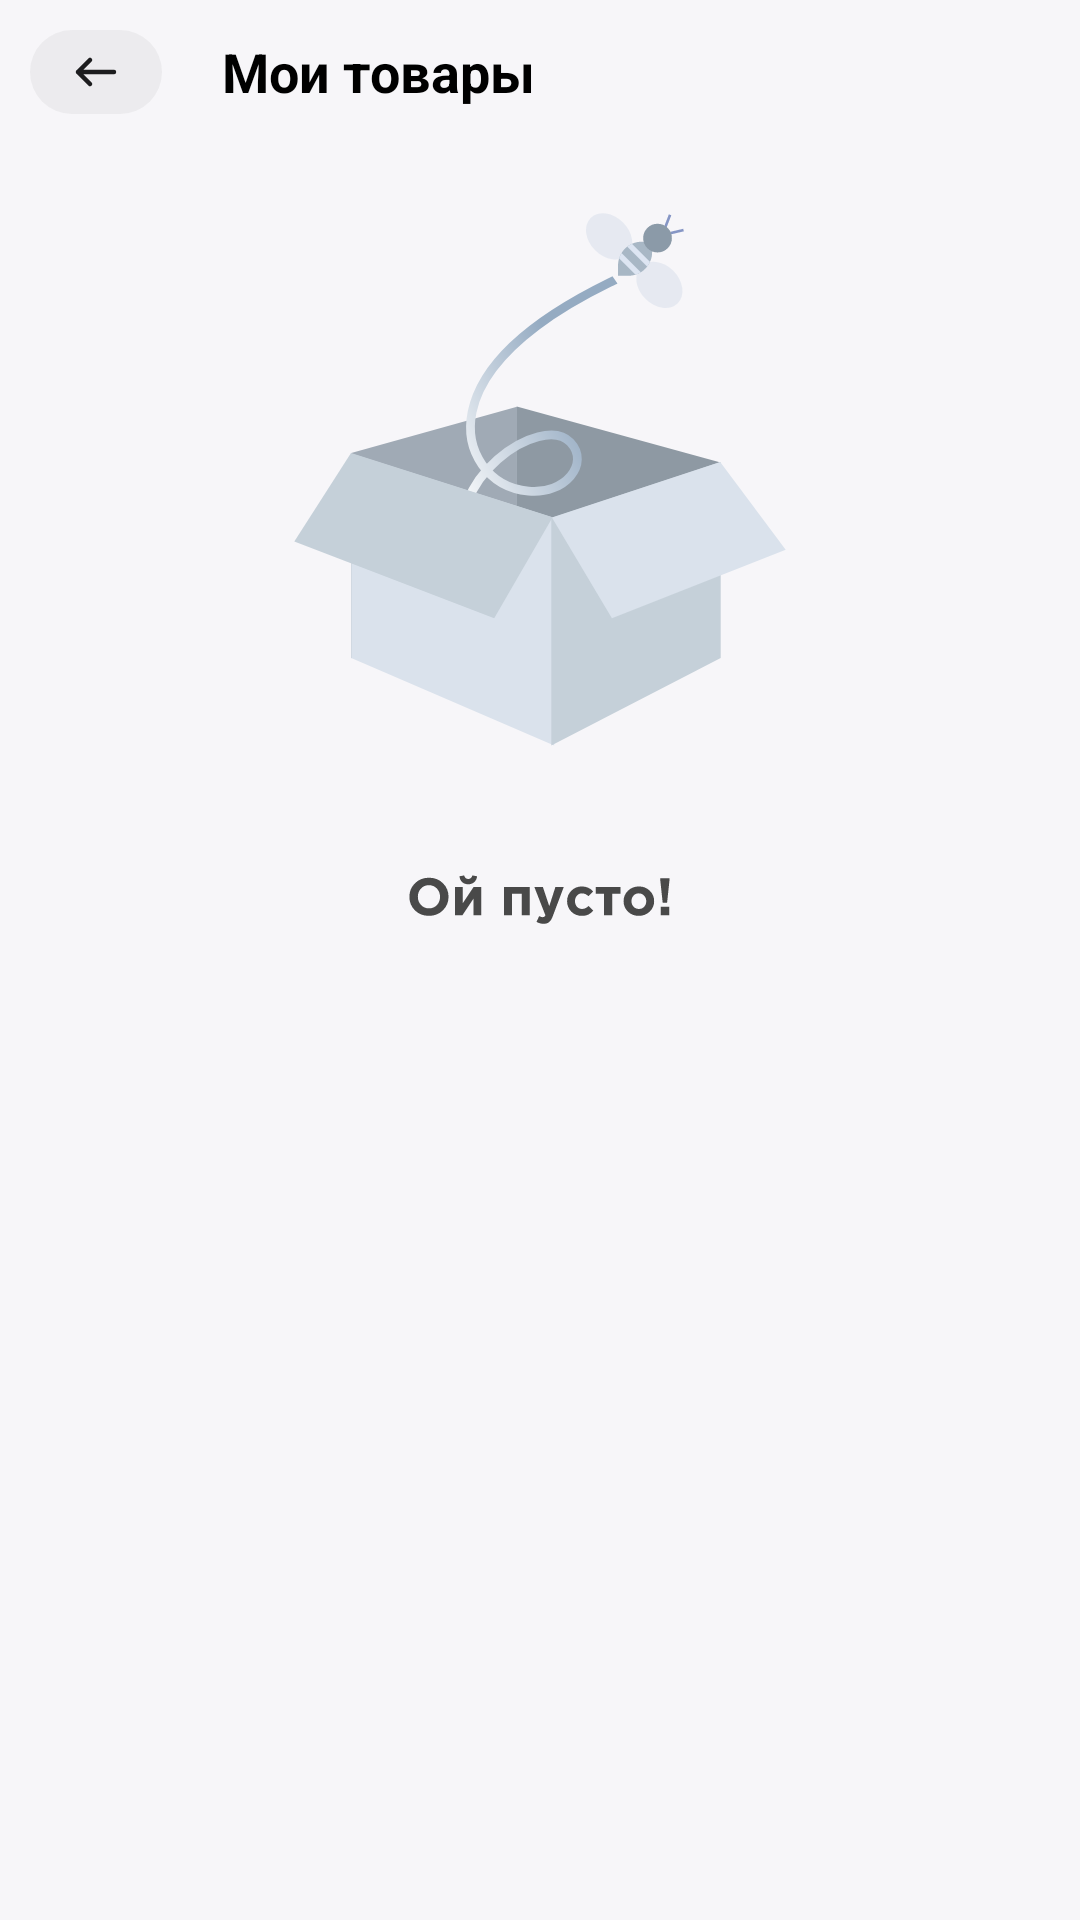

Screen size 1080*1920. Icon name, then its box in pixels as (x1, y1, x2, y2):
back: (30, 30, 162, 114)
